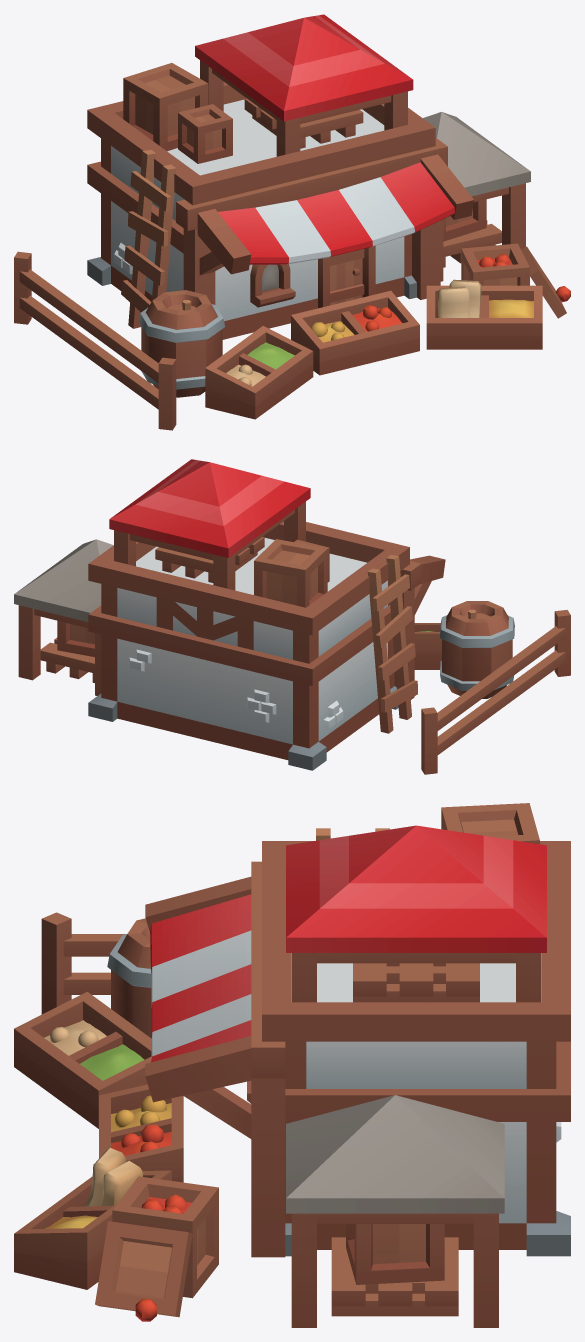
Rendered from market.glb.
3 views of the same model, one above another, from view 1: azimuth 30°, elevation 25°; view 2: azimuth 150°, elevation 25°; view 3: azimuth 270°, elevation 25° (orthographic). The views are drawn at different scales.
Parts seen in each view (by area): view 1: building_market_red; view 2: building_market_red; view 3: building_market_red.
Part boxes in pixels (<box>): building_market_red: <box>14,14,570,430</box>; building_market_red: <box>14,459,570,774</box>; building_market_red: <box>14,803,570,1327</box>.
Bounding box in the file's own units: 1.8 × 0.9816 × 1.32.
1 material, 1 textured.
